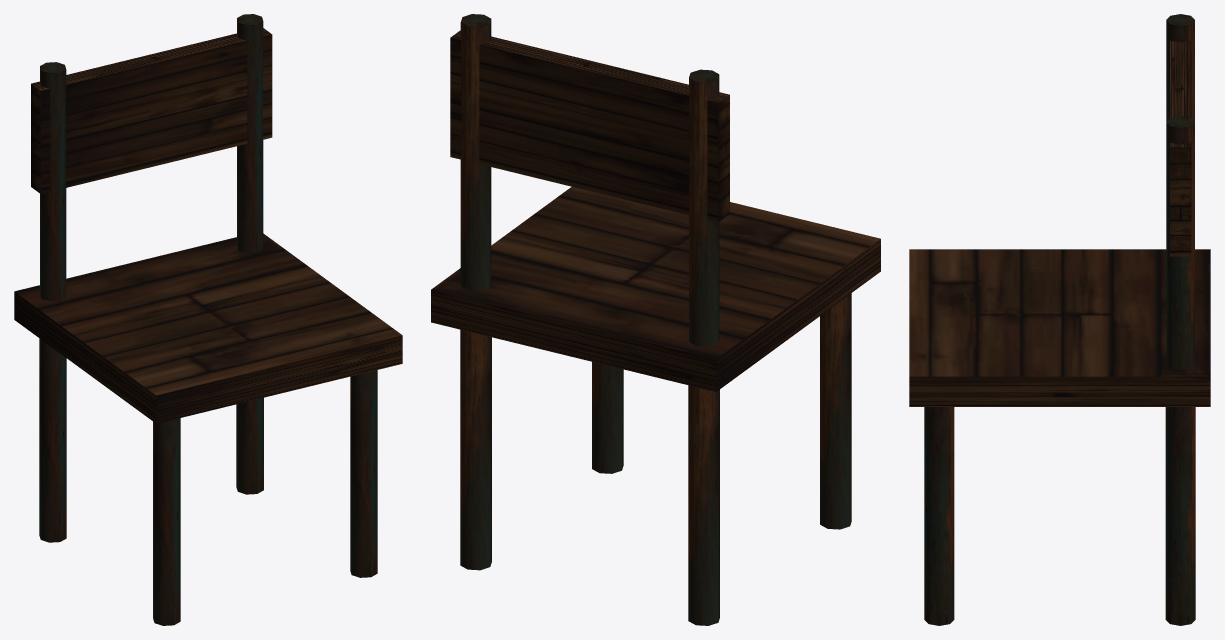
File: loose_chair.glb
The picture shows the model from 3 angles, left to right: view 1: azimuth 30°, elevation 25°; view 2: azimuth 150°, elevation 25°; view 3: azimuth 270°, elevation 25°; orthographic projection. The views are drawn at different scales.
Parts seen in each view (by area): view 1: SplitWoodTop, CrackedBackrest, _MeshInstance3D_39848, _MeshInstance3D_39850, _MeshInstance3D_39847, _MeshInstance3D_39851, _MeshInstance3D_39852, _MeshInstance3D_39849; view 2: SplitWoodTop, CrackedBackrest, _MeshInstance3D_39847, _MeshInstance3D_39849, _MeshInstance3D_39852, _MeshInstance3D_39848, _MeshInstance3D_39851, _MeshInstance3D_39850; view 3: SplitWoodTop, _MeshInstance3D_39849, _MeshInstance3D_39850, _MeshInstance3D_39852, CrackedBackrest, _MeshInstance3D_39851.
Part boxes in pixels (left/top/right/bottom): SplitWoodTop: left=14, top=233, right=402, bottom=423; CrackedBackrest: left=31, top=28, right=272, bottom=193; _MeshInstance3D_39848: left=153, top=418, right=180, bottom=625; _MeshInstance3D_39850: left=350, top=370, right=377, bottom=577; _MeshInstance3D_39847: left=39, top=338, right=66, bottom=542; _MeshInstance3D_39851: left=40, top=62, right=66, bottom=301; _MeshInstance3D_39852: left=237, top=14, right=263, bottom=253; _MeshInstance3D_39849: left=236, top=397, right=263, bottom=494; SplitWoodTop: left=431, top=187, right=880, bottom=391; CrackedBackrest: left=450, top=30, right=729, bottom=222; _MeshInstance3D_39847: left=688, top=385, right=719, bottom=625; _MeshInstance3D_39849: left=460, top=329, right=491, bottom=570; _MeshInstance3D_39852: left=460, top=14, right=491, bottom=290; _MeshInstance3D_39848: left=820, top=293, right=851, bottom=529; _MeshInstance3D_39851: left=689, top=69, right=719, bottom=346; _MeshInstance3D_39850: left=592, top=362, right=623, bottom=473; SplitWoodTop: left=909, top=249, right=1210, bottom=406; _MeshInstance3D_39849: left=1165, top=407, right=1195, bottom=625; _MeshInstance3D_39850: left=924, top=407, right=954, bottom=625; _MeshInstance3D_39852: left=1166, top=116, right=1194, bottom=369; CrackedBackrest: left=1170, top=41, right=1191, bottom=256; _MeshInstance3D_39851: left=1166, top=14, right=1194, bottom=121.
Bounding box in the file's own units: 0.5 × 0.91 × 0.5.
Materials: 2 (2 with a texture image).
